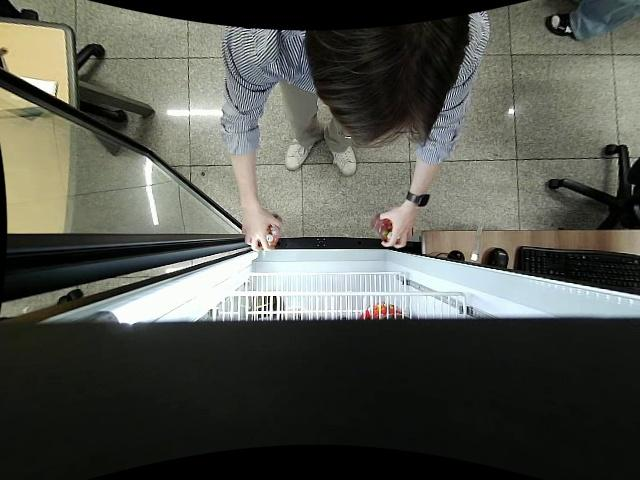00_hand: (239, 209, 280, 253), (378, 209, 417, 247)
06_nuguri_S: (249, 212, 280, 250), (373, 212, 408, 244)
